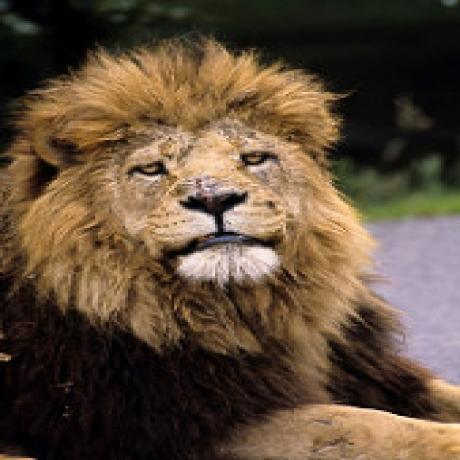Lion: (0, 41, 460, 460)
